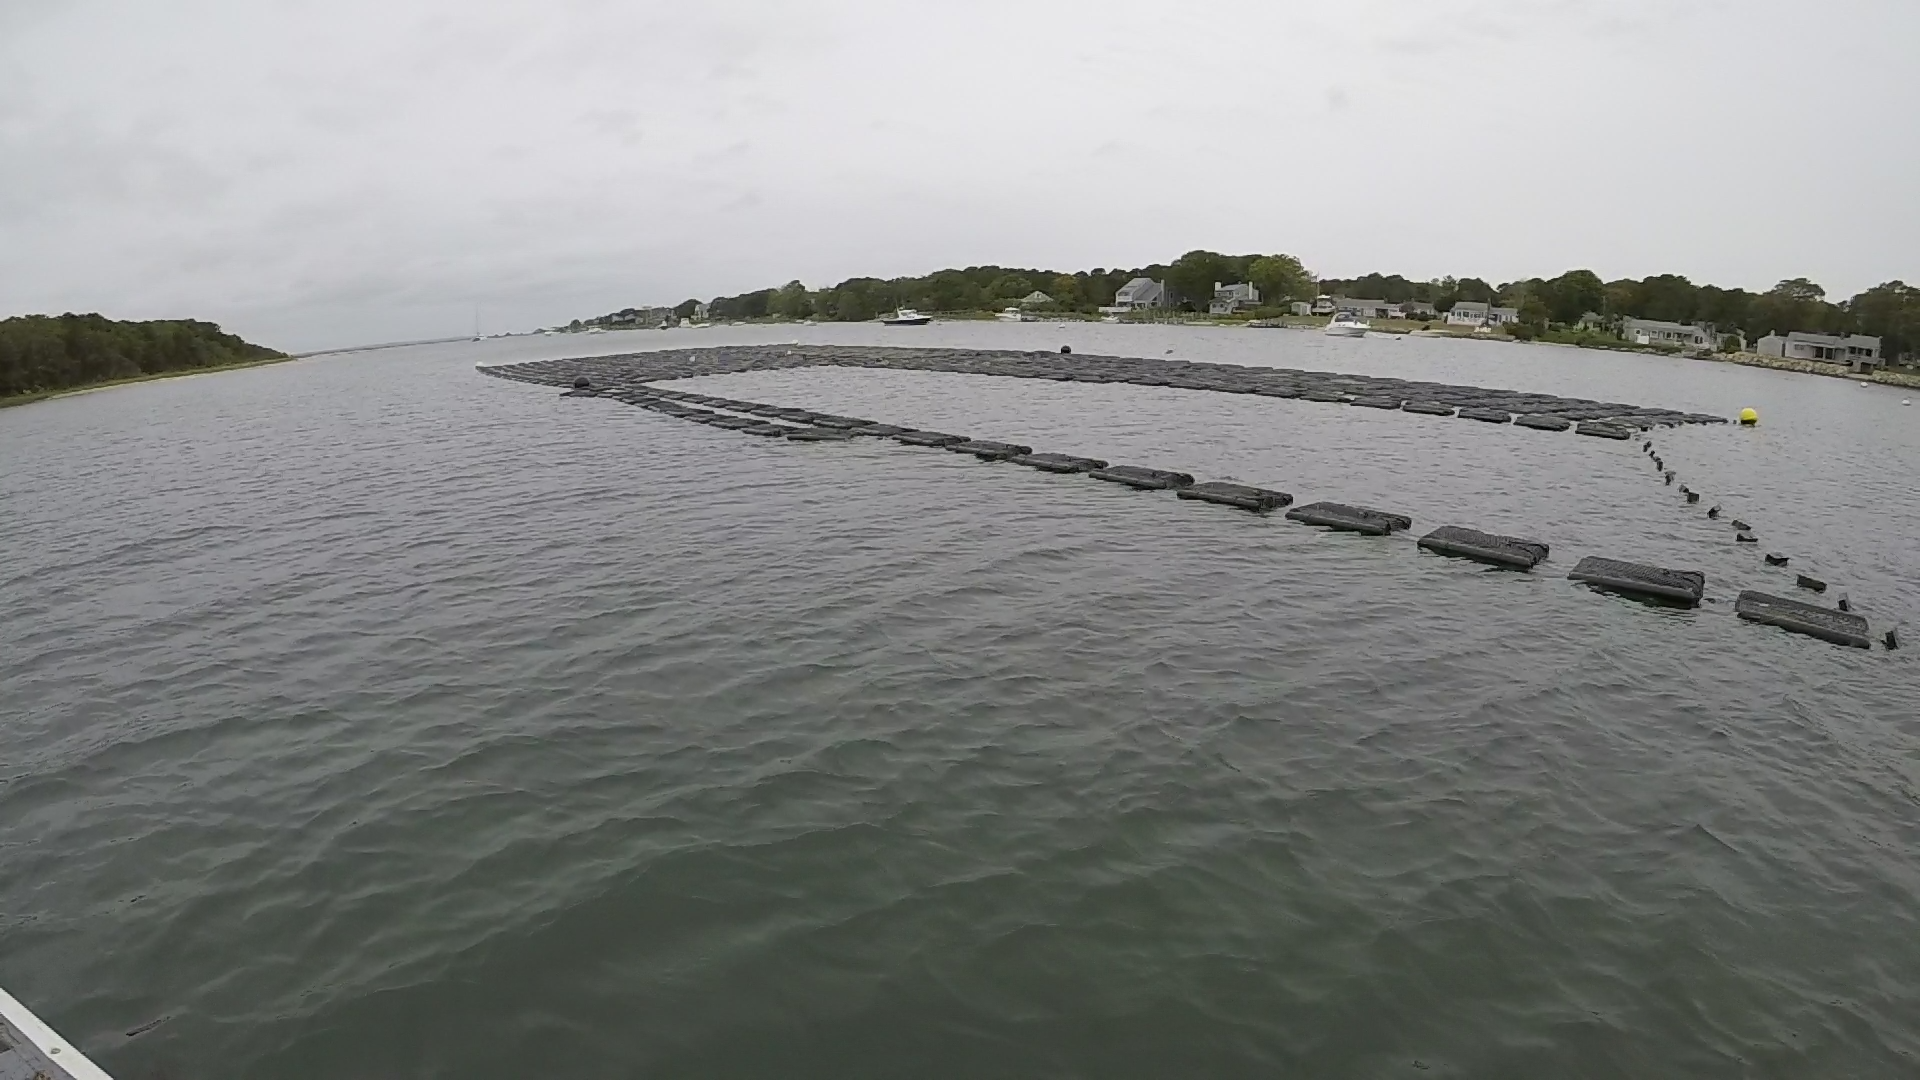bag: (1564, 553, 1706, 611), (1735, 591, 1874, 650), (1418, 513, 1549, 575), (1288, 495, 1410, 535)
